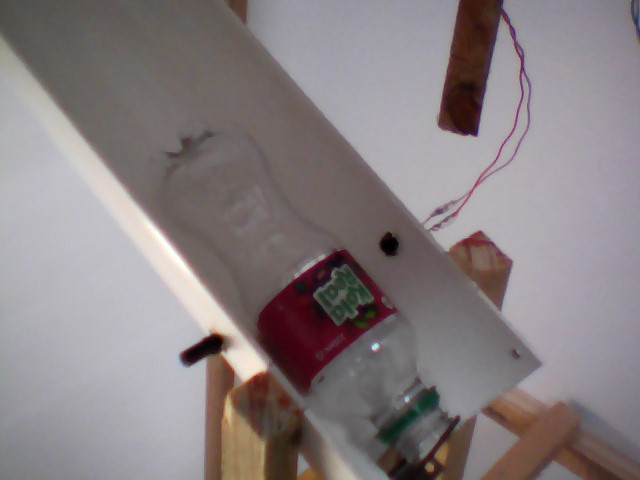plastico: (129, 108, 467, 460)
